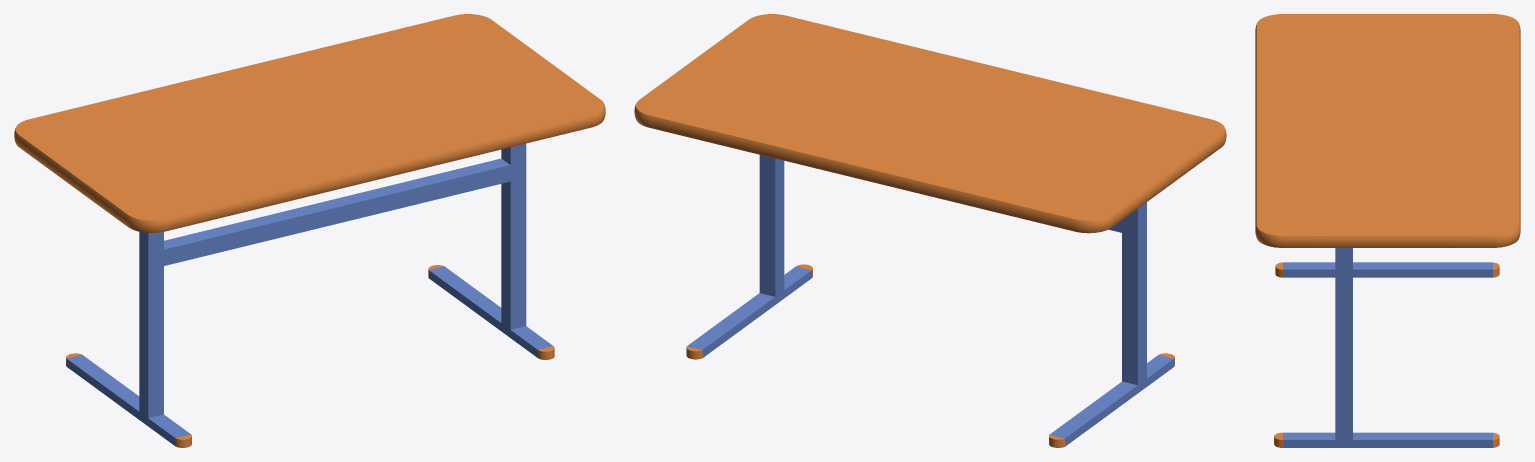
File: simpleDesk.dae
The picture shows the model from 3 angles, left to right: view 1: azimuth 30°, elevation 25°; view 2: azimuth 150°, elevation 25°; view 3: azimuth 270°, elevation 25°; orthographic projection. The views are drawn at different scales.
Parts seen in each view (by area): view 1: SketchUp_005, SketchUp; view 2: SketchUp_005, SketchUp; view 3: SketchUp_005, SketchUp.
Part boxes in pixels (x1,y1,x2,y2): SketchUp_005: (15,14,604,446); SketchUp: (14,105,605,232); SketchUp_005: (636,14,1224,446); SketchUp: (634,104,1226,233); SketchUp_005: (1256,14,1519,447); SketchUp: (1255,25,1520,247).
Size of the model in its own units: 1.53 by 0.7695 by 0.7493.
